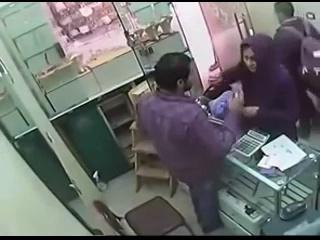Normal: (136, 52, 247, 233), (203, 33, 300, 142), (272, 3, 320, 138), (93, 196, 194, 236), (230, 128, 270, 158)
